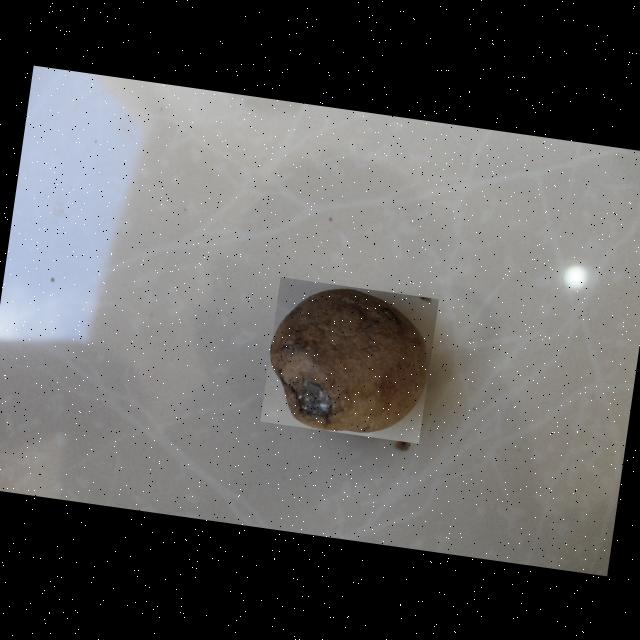Diseased-fungal potato: (260, 276, 438, 443)
